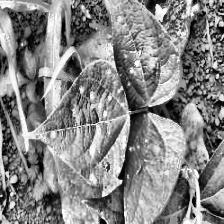Bean Rust: (38, 75, 126, 197), (97, 0, 189, 103), (122, 102, 178, 224)
